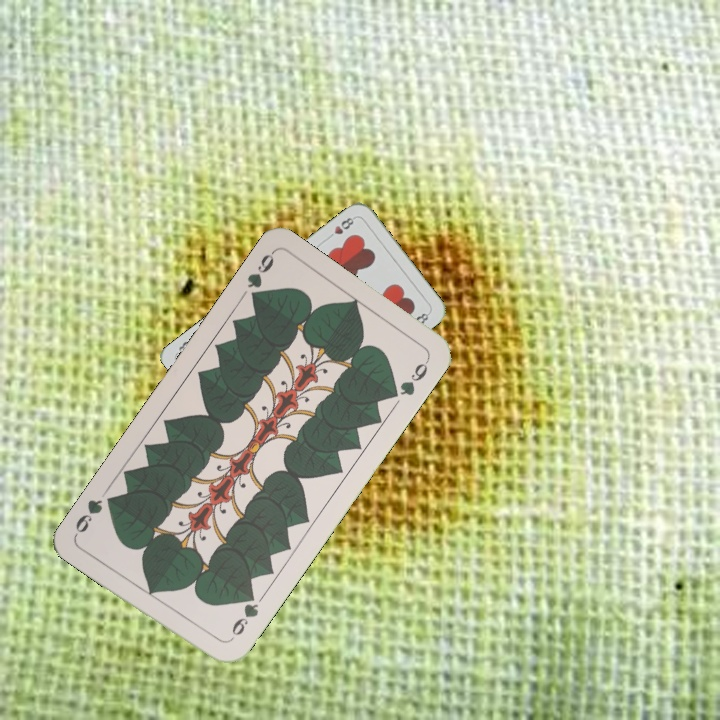G9: (224, 588, 262, 645), (242, 248, 277, 306)
H8: (323, 213, 358, 242)
